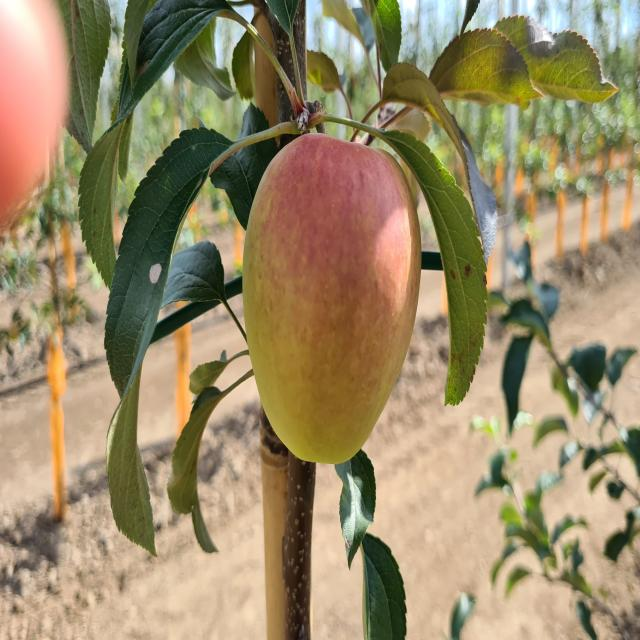Apple: (244, 133, 421, 464)
